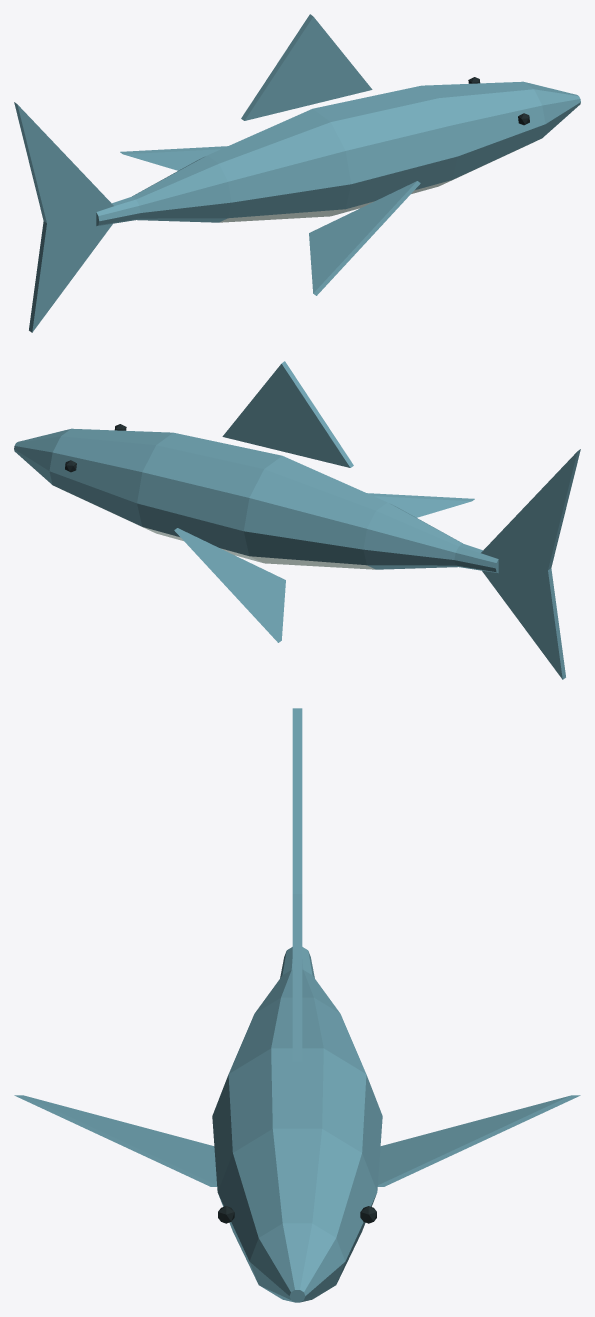
Rendered from silver_fish.glb.
3 views of the same model, one above another, from view 1: azimuth 30°, elevation 25°; view 2: azimuth 150°, elevation 25°; view 3: azimuth 270°, elevation 25° (orthographic). The views are drawn at different scales.
Visible parts, largest first — view 1: silver_fish_body, Dorsal.002, Tail_upper.002, Tail_lower.002, Pectoral.004, Pectoral.005; view 2: silver_fish_body, Dorsal.002, Tail_upper.002, Tail_lower.002, Pectoral.005, Pectoral.004; view 3: silver_fish_body, Pectoral.004, Pectoral.005, Tail_upper.002, Dorsal.002.
Boxes of the visible parts, x1,y1,x2,y2 form: silver_fish_body: (96, 81, 580, 226); Dorsal.002: (241, 14, 372, 120); Tail_upper.002: (14, 102, 113, 223); Tail_lower.002: (29, 216, 112, 332); Pectoral.004: (309, 181, 420, 295); Pectoral.005: (120, 146, 227, 170); silver_fish_body: (14, 428, 498, 573); Dorsal.002: (222, 361, 353, 467); Tail_upper.002: (481, 449, 580, 570); Tail_lower.002: (482, 563, 565, 679); Pectoral.005: (174, 528, 285, 642); Pectoral.004: (367, 493, 474, 517); silver_fish_body: (212, 947, 382, 1302); Pectoral.004: (14, 1095, 217, 1186); Pectoral.005: (377, 1095, 580, 1186); Tail_upper.002: (292, 708, 302, 893); Dorsal.002: (292, 894, 302, 1061).
Bounding box in the file's own units: 0.9348 × 0.3936 × 0.5674.
